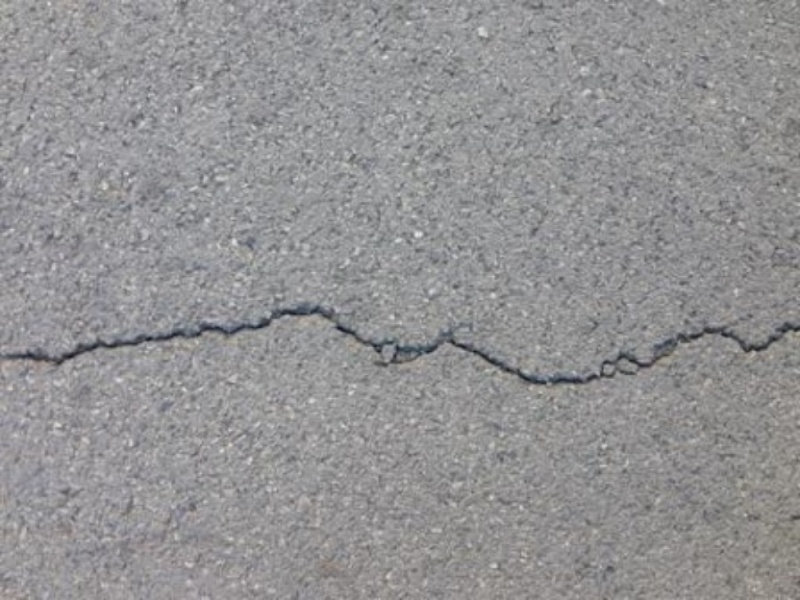crack: (12, 282, 796, 448)
